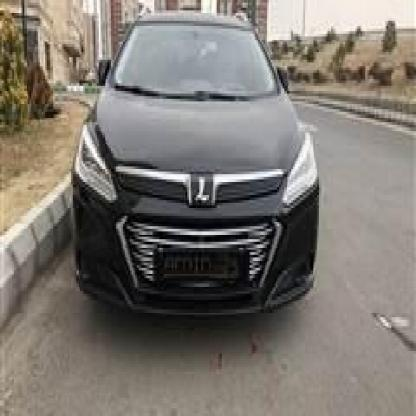Car: (67, 8, 326, 320)
